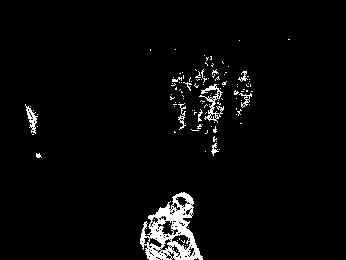person: (138, 189, 204, 260), (201, 78, 225, 159)
